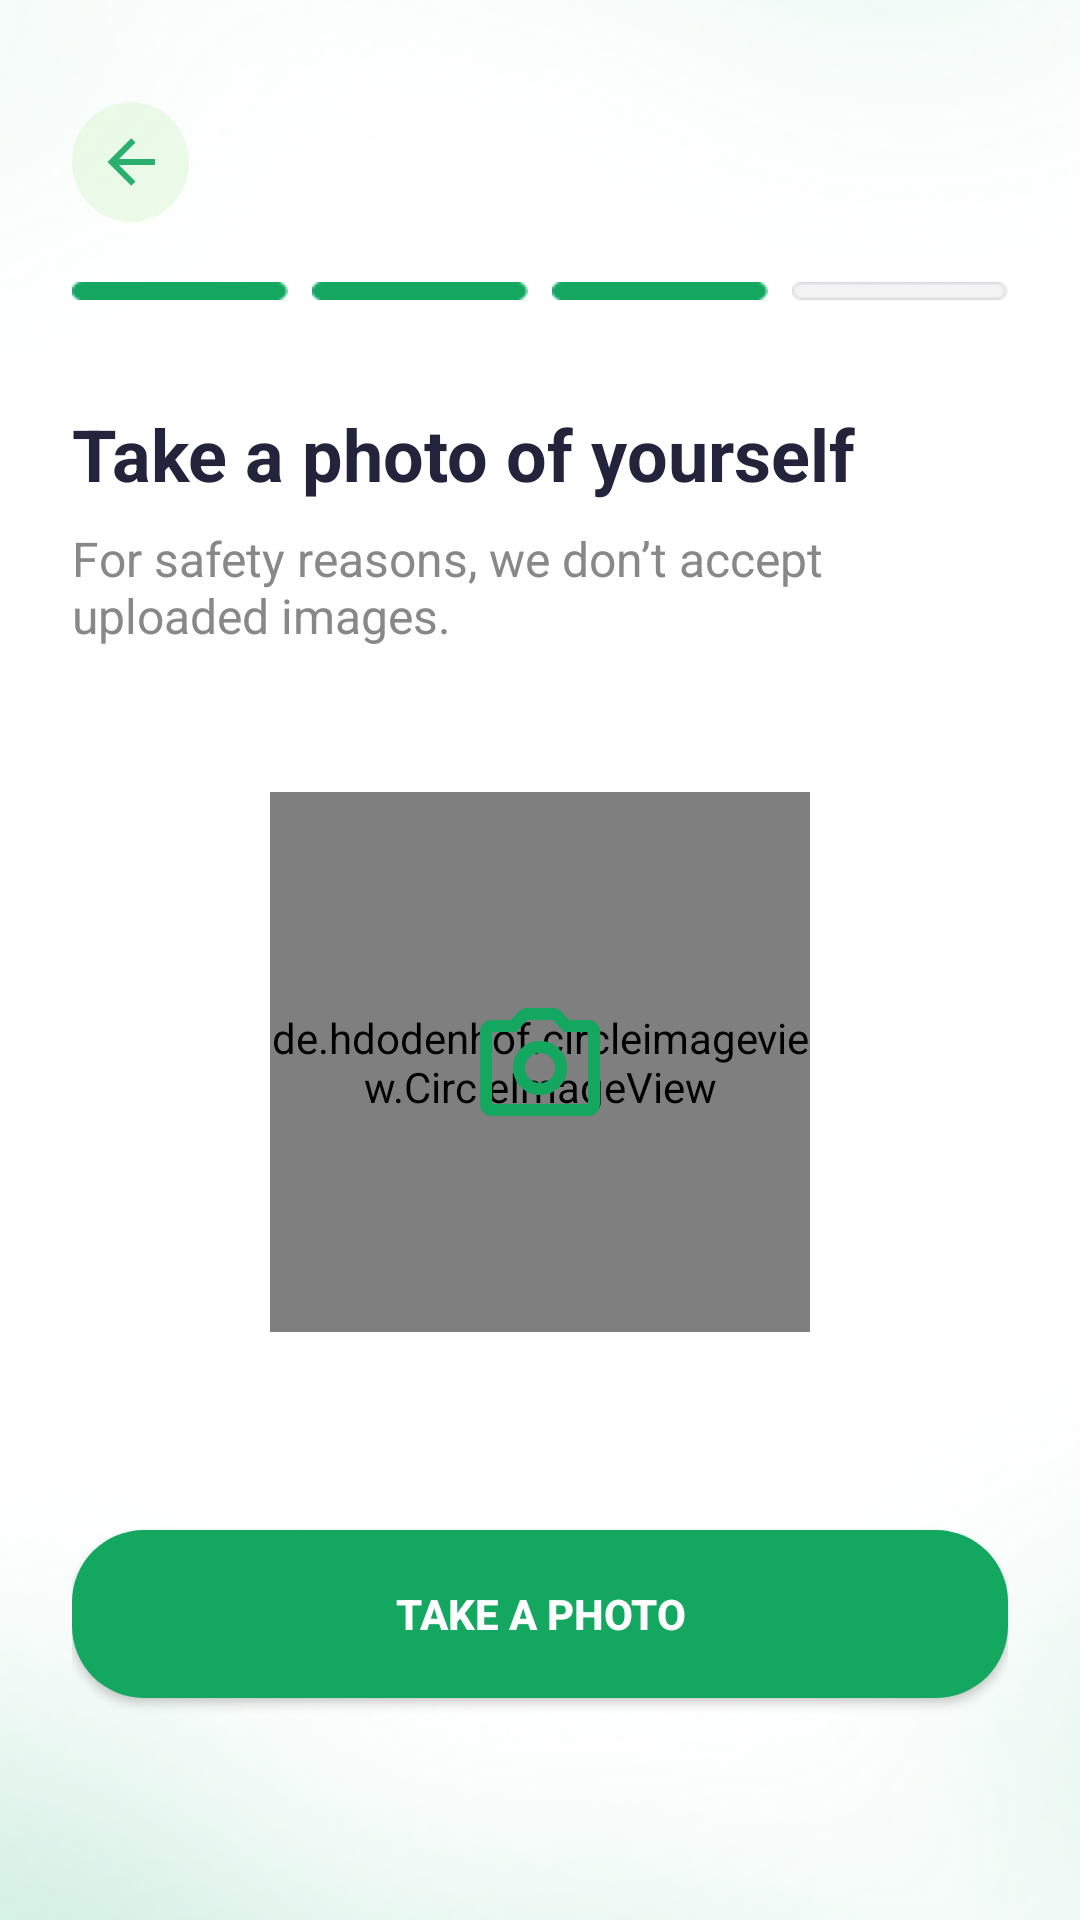

Named icons in this screenshot (1080*1920) and their bounding boxes, (x1=x1, y1=y1, x2=x2, y2=y2):
back arrow: (x1=72, y1=102, x2=189, y2=222)
cam: (x1=472, y1=1008, x2=609, y2=1116)
